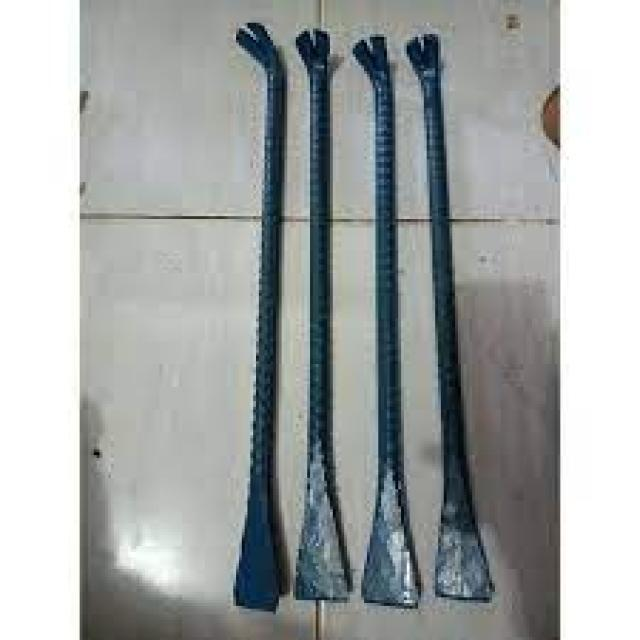Linggis: (393, 39, 507, 618), (352, 2, 426, 624), (230, 16, 293, 614), (292, 29, 356, 612)
